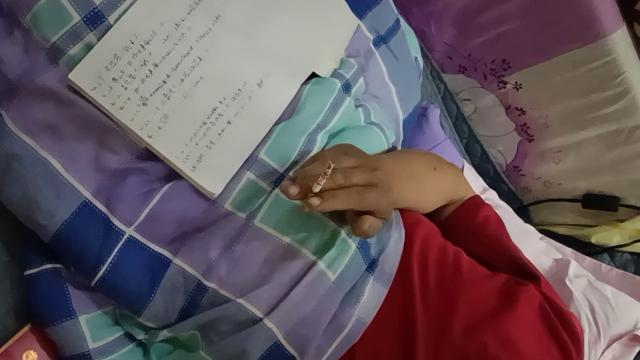Cigarette: (302, 162, 336, 212)
